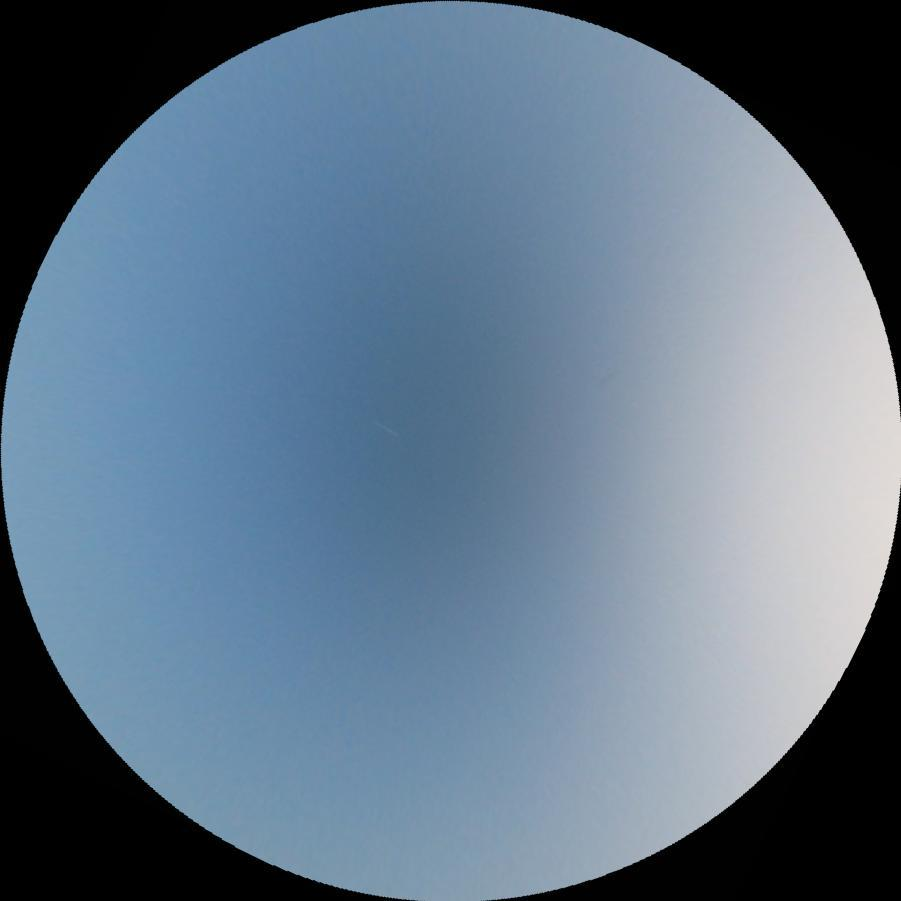contrail young: (372, 420, 399, 437)
